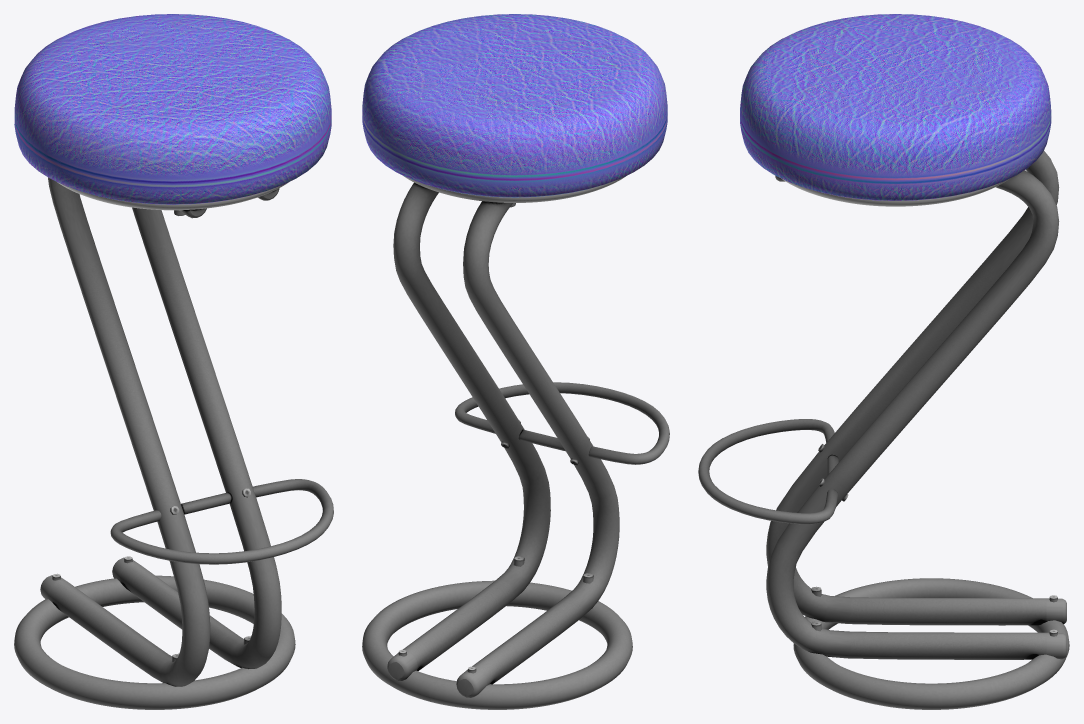
File: Stool.fbx
The picture shows the model from 3 angles, left to right: view 1: azimuth 30°, elevation 25°; view 2: azimuth 150°, elevation 25°; view 3: azimuth 270°, elevation 25°; orthographic projection. The views are drawn at different scales.
Visible parts, largest first — view 1: Bar_Chair_001; view 2: Bar_Chair_001; view 3: Bar_Chair_001.
Boxes of the visible parts, bbox=[...] form: Bar_Chair_001: bbox=[14, 14, 333, 709]; Bar_Chair_001: bbox=[362, 14, 669, 709]; Bar_Chair_001: bbox=[698, 14, 1069, 709].
Size of the model in its own units: 1.58 by 1.89 by 3.31.
